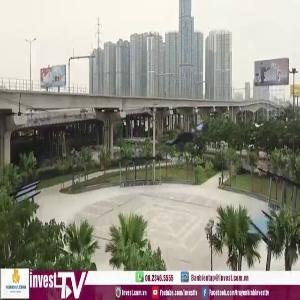drone: (102, 43, 290, 231)
